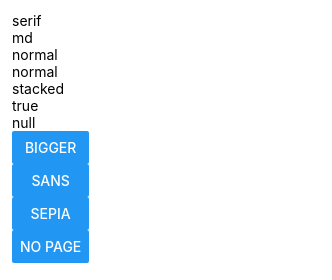
Test: reading preferences › keeps the local value when the Firestore write fails
Expected: the text with test id "isLoaded" reads "true", [12,97,38,114]
Step 1. Click the button with test id "set-size-xl" → (51, 148), box [12,131,89,164]
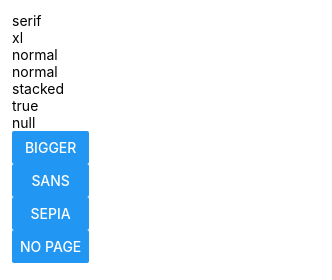
Result: the text with test id "size" reads "xl" at [12,29,23,46]
